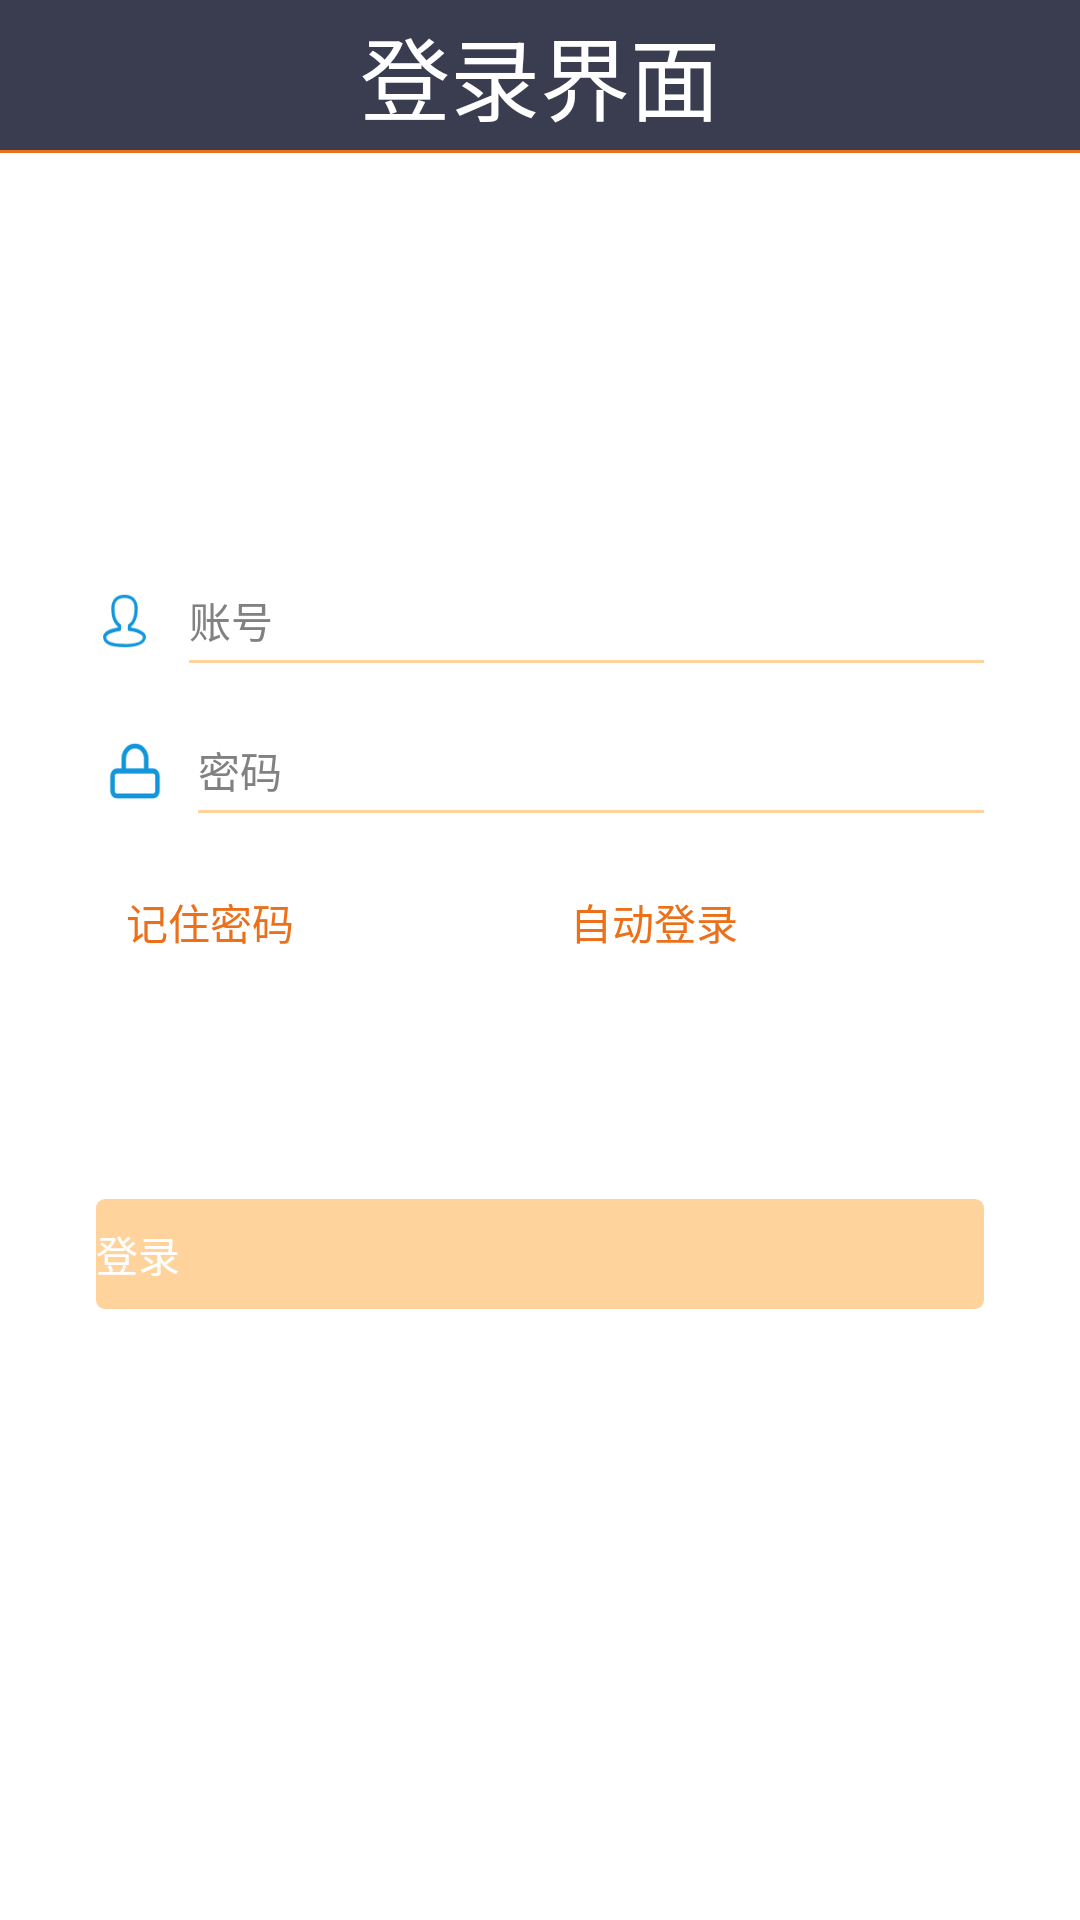

Icon bounding boxes for this 1080px×1920px phone screenshot, format rect(x1, y1, x2, y2):
login account: rect(103, 594, 146, 648)
login pw: rect(110, 743, 160, 799)
